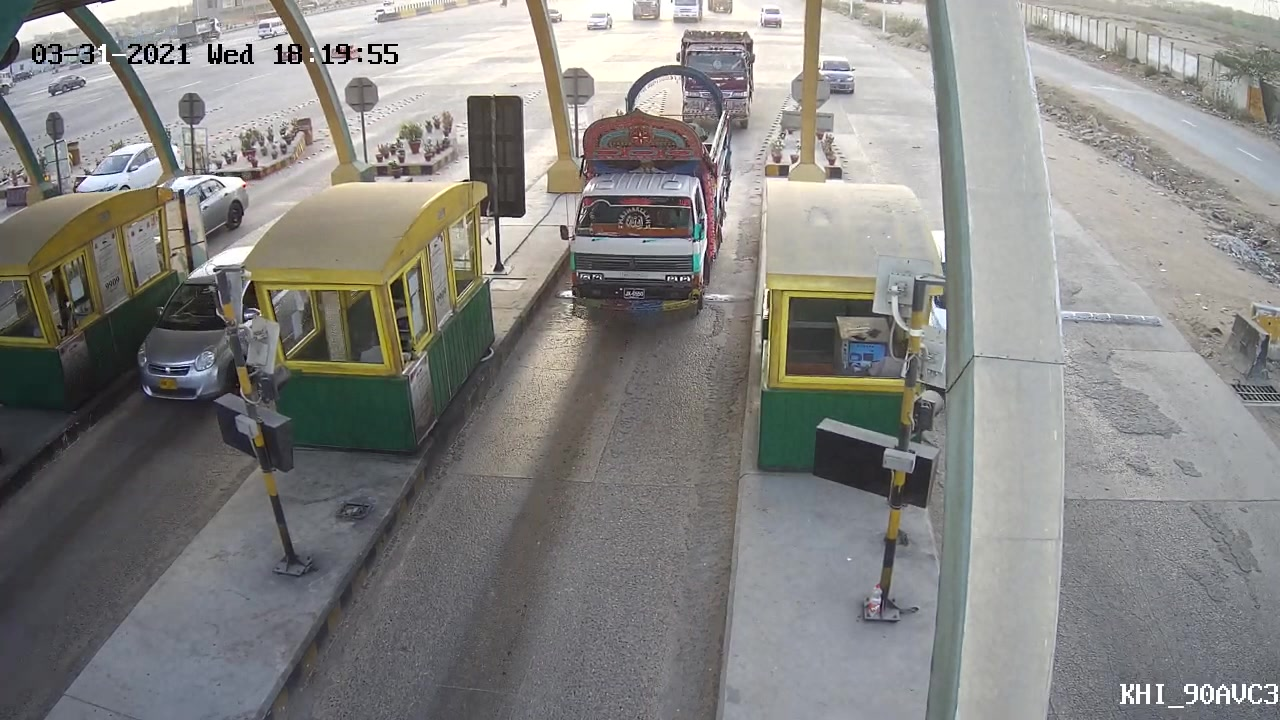F5: (554, 84, 734, 335)
